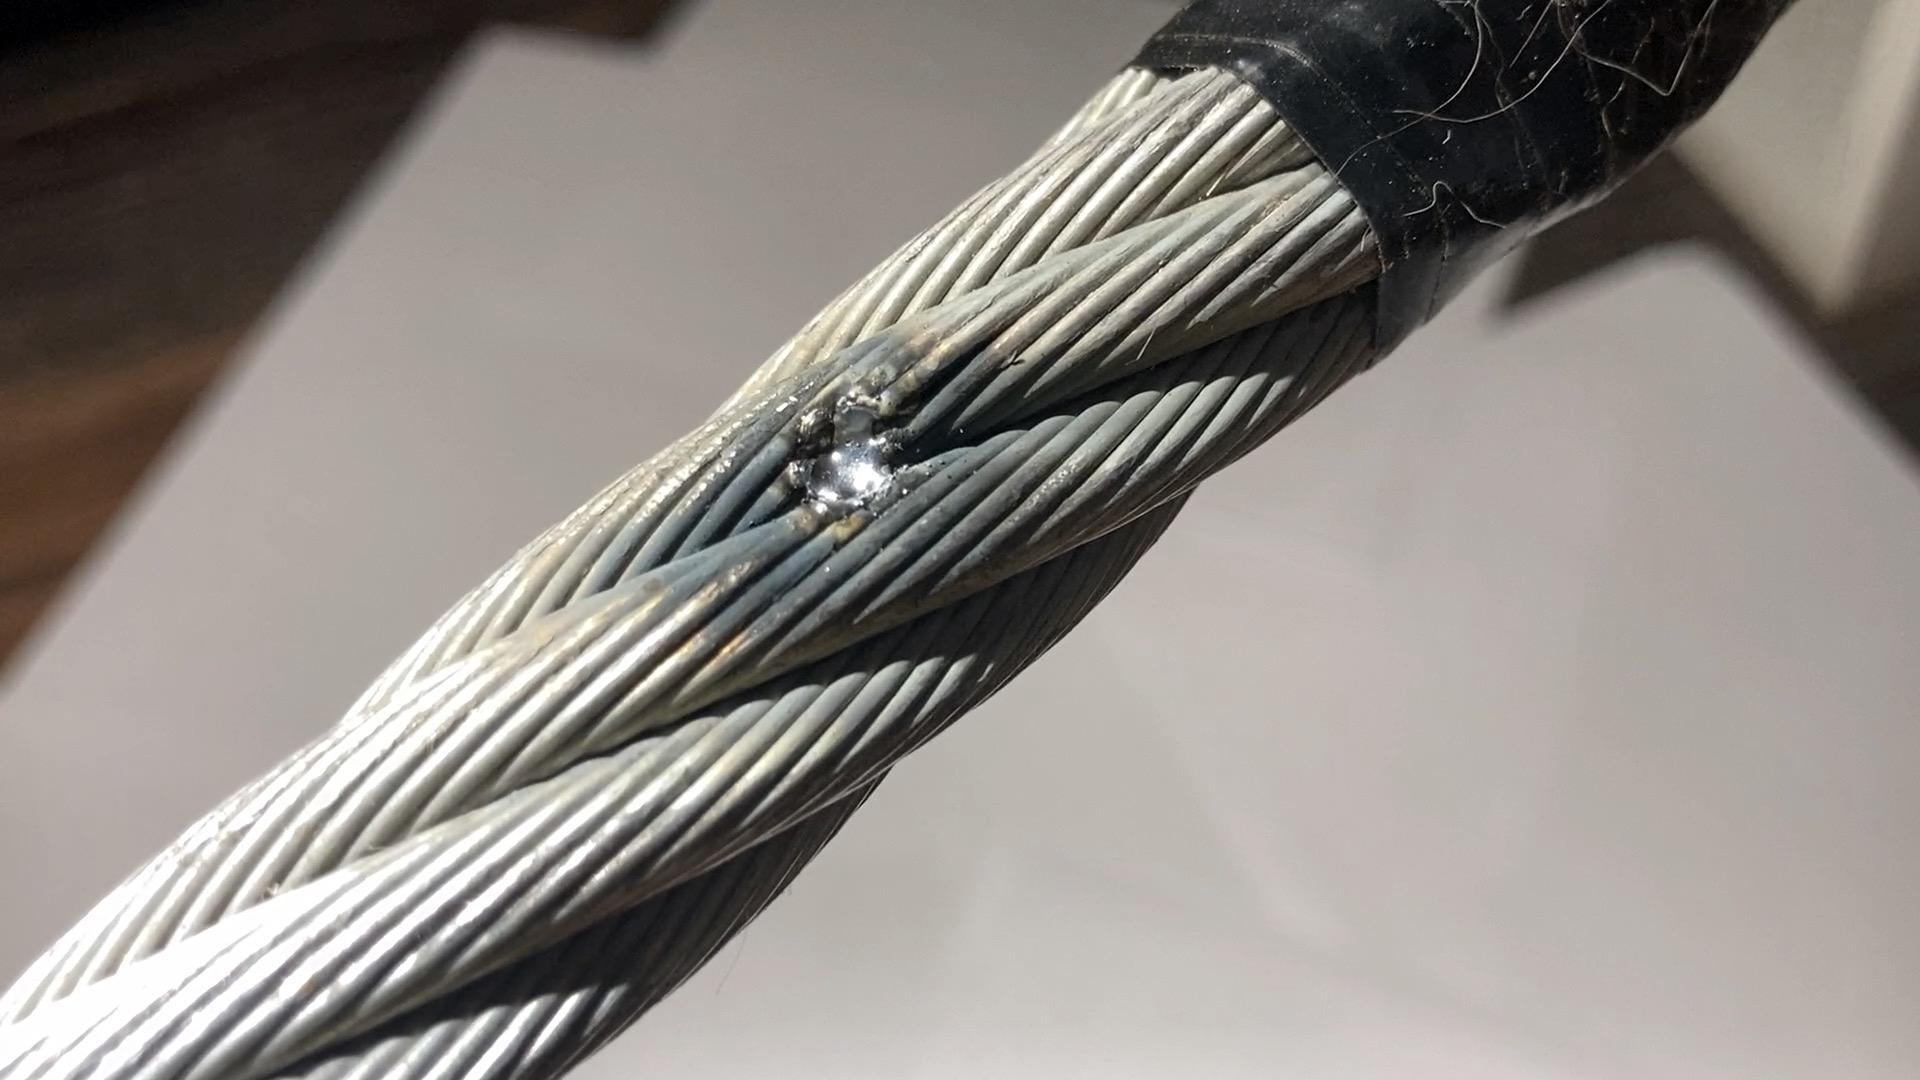thunderbolt: (735, 347, 938, 534)
